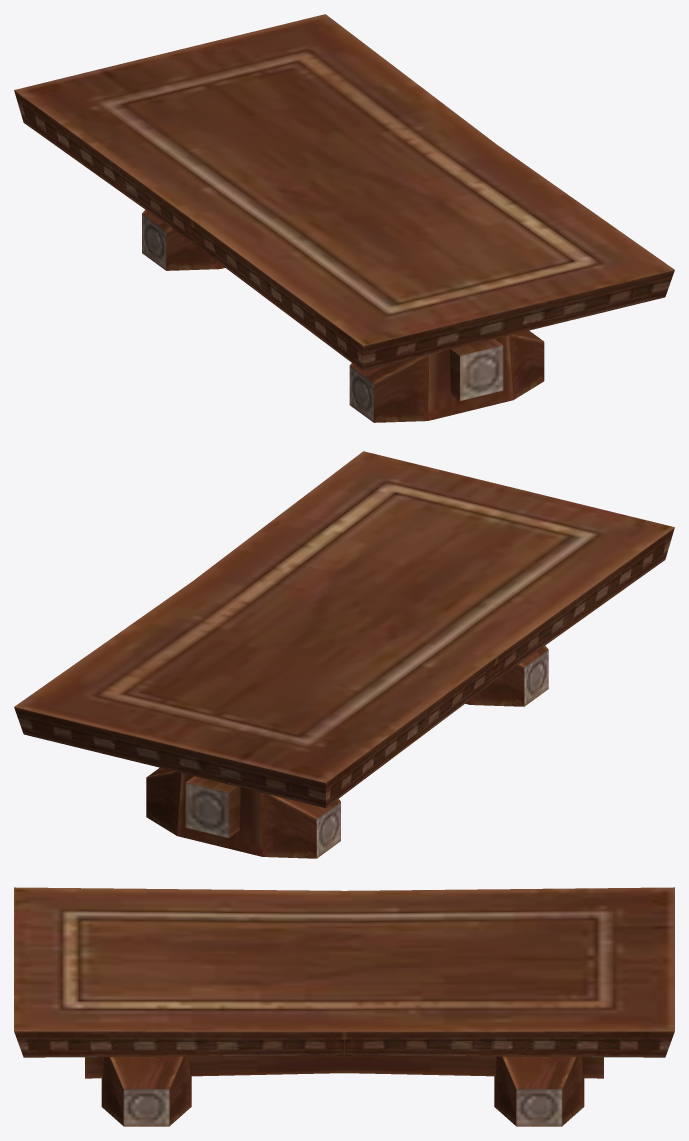
The picture shows the model from 3 angles, top to bottom: view 1: azimuth 30°, elevation 25°; view 2: azimuth 150°, elevation 25°; view 3: azimuth 270°, elevation 25°; orthographic projection. The views are drawn at different scales.
Size of the model in its own units: 2.17 by 0.9048 by 4.21.
Materials: 1 (1 with a texture image).
